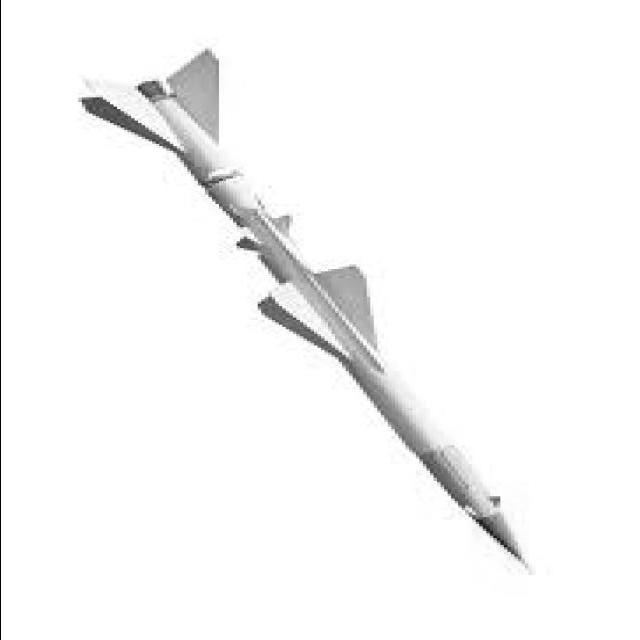Missile: (62, 51, 548, 563)
